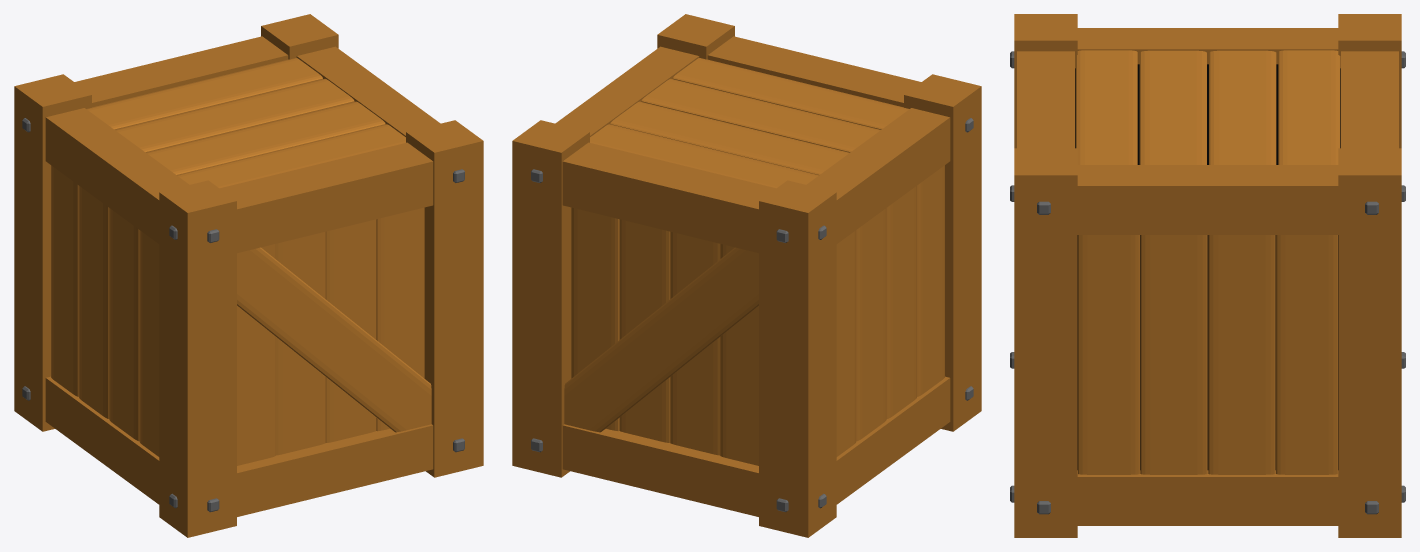
File: Crate.glb
The picture shows the model from 3 angles, left to right: view 1: azimuth 30°, elevation 25°; view 2: azimuth 150°, elevation 25°; view 3: azimuth 270°, elevation 25°; orthographic projection. The views are drawn at different scales.
Visible parts, largest first — view 1: upright; view 2: upright; view 3: upright.
Boxes of the visible parts, x1,y1,x2,y2 form: upright: (14, 14, 483, 537); upright: (512, 14, 981, 537); upright: (1010, 14, 1405, 537).
Size of the model in its own units: 1.82 by 1.87 by 1.85.
